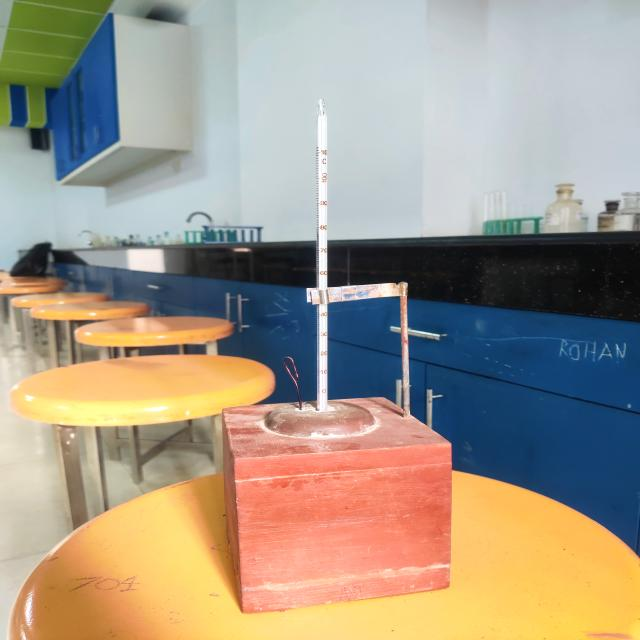Calorimeter: (184, 93, 466, 621)
